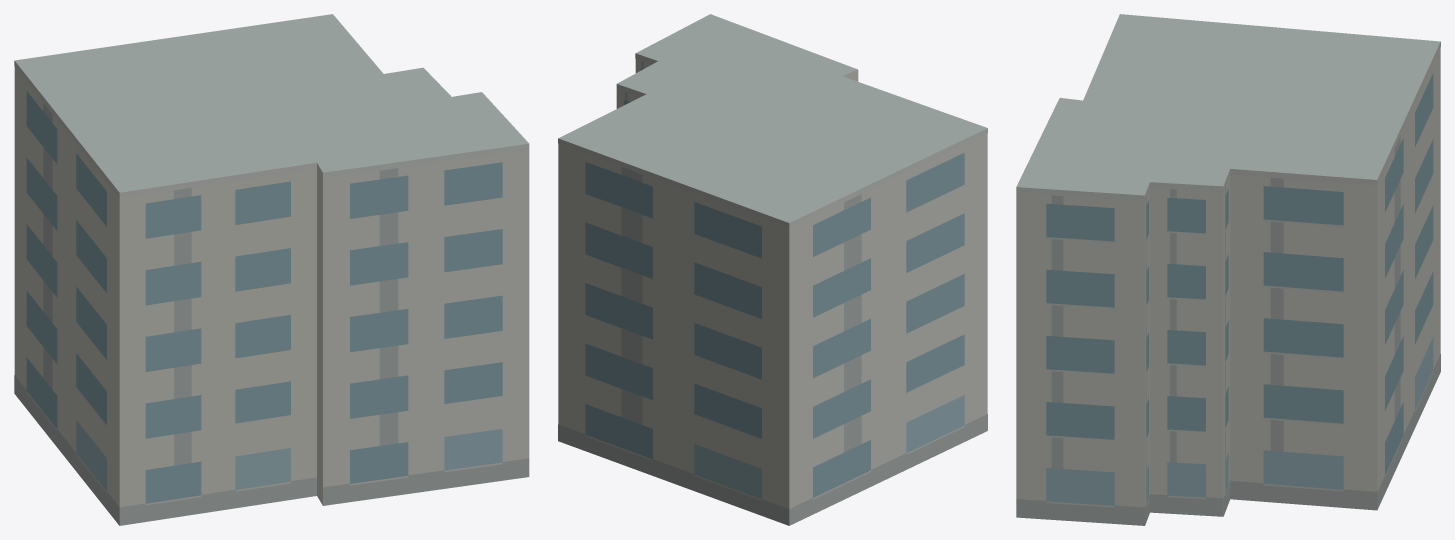
Rendered from survey-upis-32460666.glb.
3 views of the same model, side by side, from view 1: azimuth 30°, elevation 25°; view 2: azimuth 150°, elevation 25°; view 3: azimuth 270°, elevation 25° (orthographic). The views are drawn at different scales.
Parts seen in each view (by area): view 1: survey-upis-32460666.tmp; view 2: survey-upis-32460666.tmp; view 3: survey-upis-32460666.tmp.
Part boxes in pixels (bbox=[...]): survey-upis-32460666.tmp: bbox=[14, 14, 529, 525]; survey-upis-32460666.tmp: bbox=[558, 14, 987, 525]; survey-upis-32460666.tmp: bbox=[1016, 14, 1440, 525].
Size of the model in its own units: 16.09 by 13.65 by 15.91.
